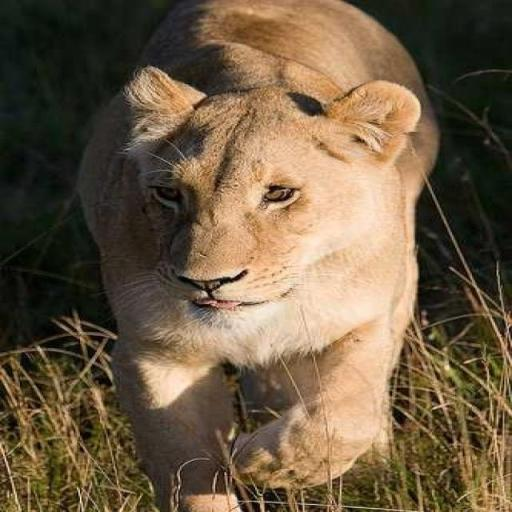Lion: (73, 0, 441, 511)
